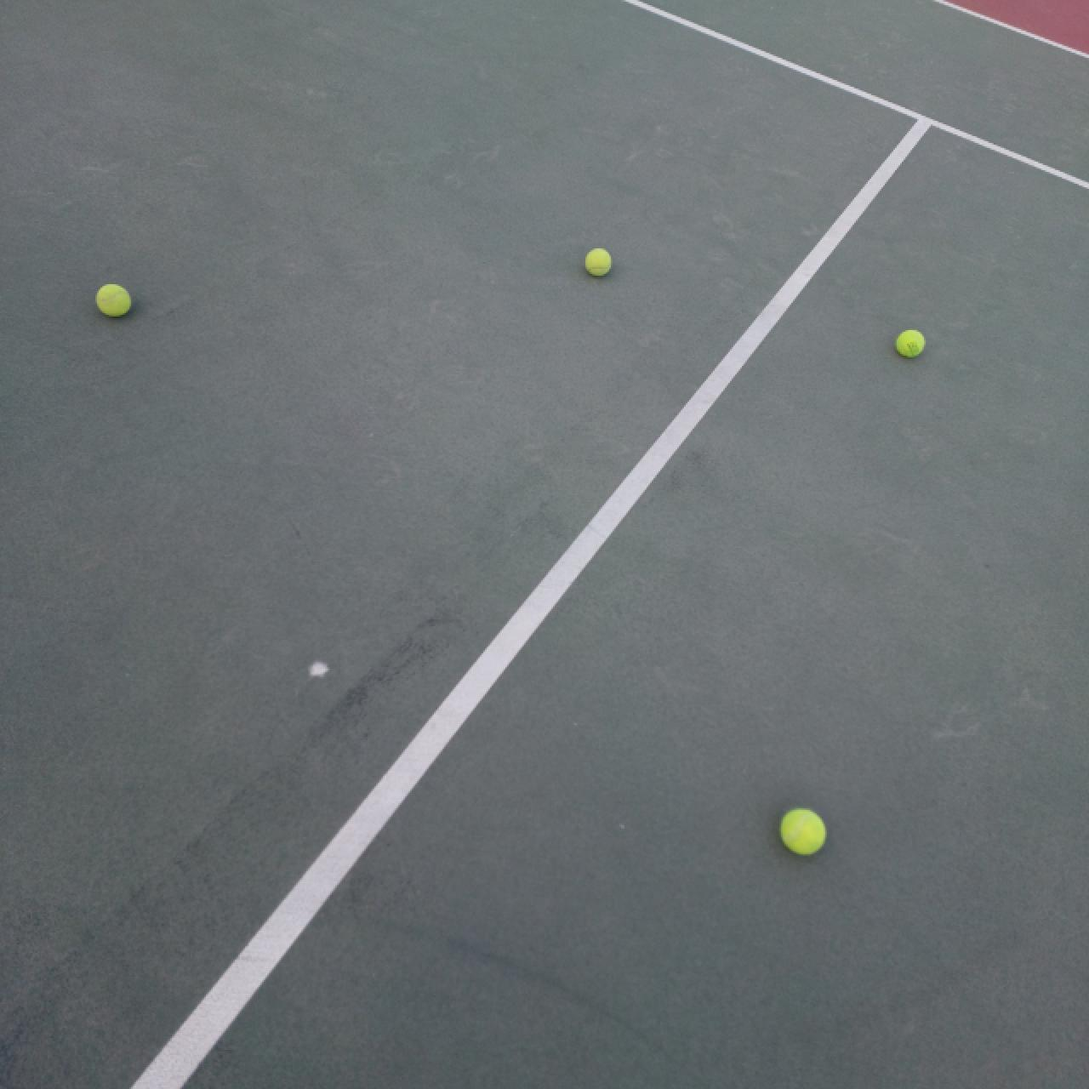tennis-ball: (778, 806, 827, 856), (94, 283, 132, 318), (894, 327, 927, 360), (583, 247, 613, 277)
